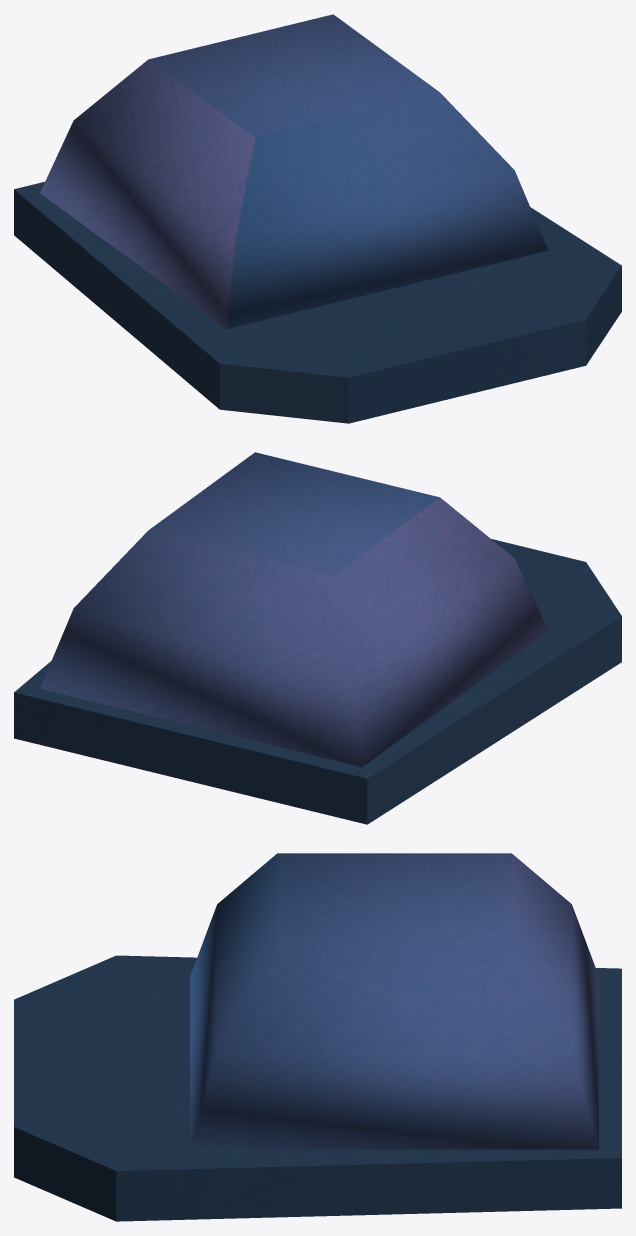
Rendered from Blue Cap.glb.
3 views of the same model, one above another, from view 1: azimuth 30°, elevation 25°; view 2: azimuth 150°, elevation 25°; view 3: azimuth 270°, elevation 25° (orthographic). The views are drawn at different scales.
Parts seen in each view (by area): view 1: Cube, Cube.001; view 2: Cube, Cube.001; view 3: Cube, Cube.001.
Part boxes in pixels (x1,y1,x2,y2): Cube: [40, 14, 548, 329]; Cube.001: [14, 181, 621, 423]; Cube: [40, 452, 548, 767]; Cube.001: [14, 539, 621, 824]; Cube: [190, 853, 598, 1149]; Cube.001: [14, 955, 621, 1221].
Size of the model in its own units: 1.82 by 0.8302 by 2.17.
Materials: 2 (2 with a texture image).
